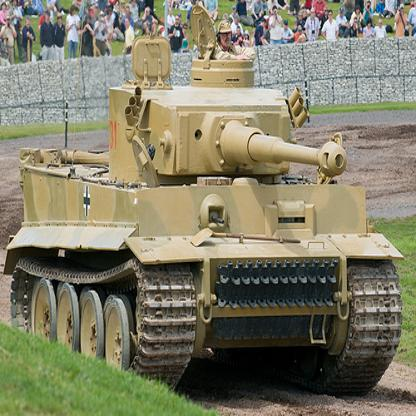Tank: (6, 39, 414, 395)
